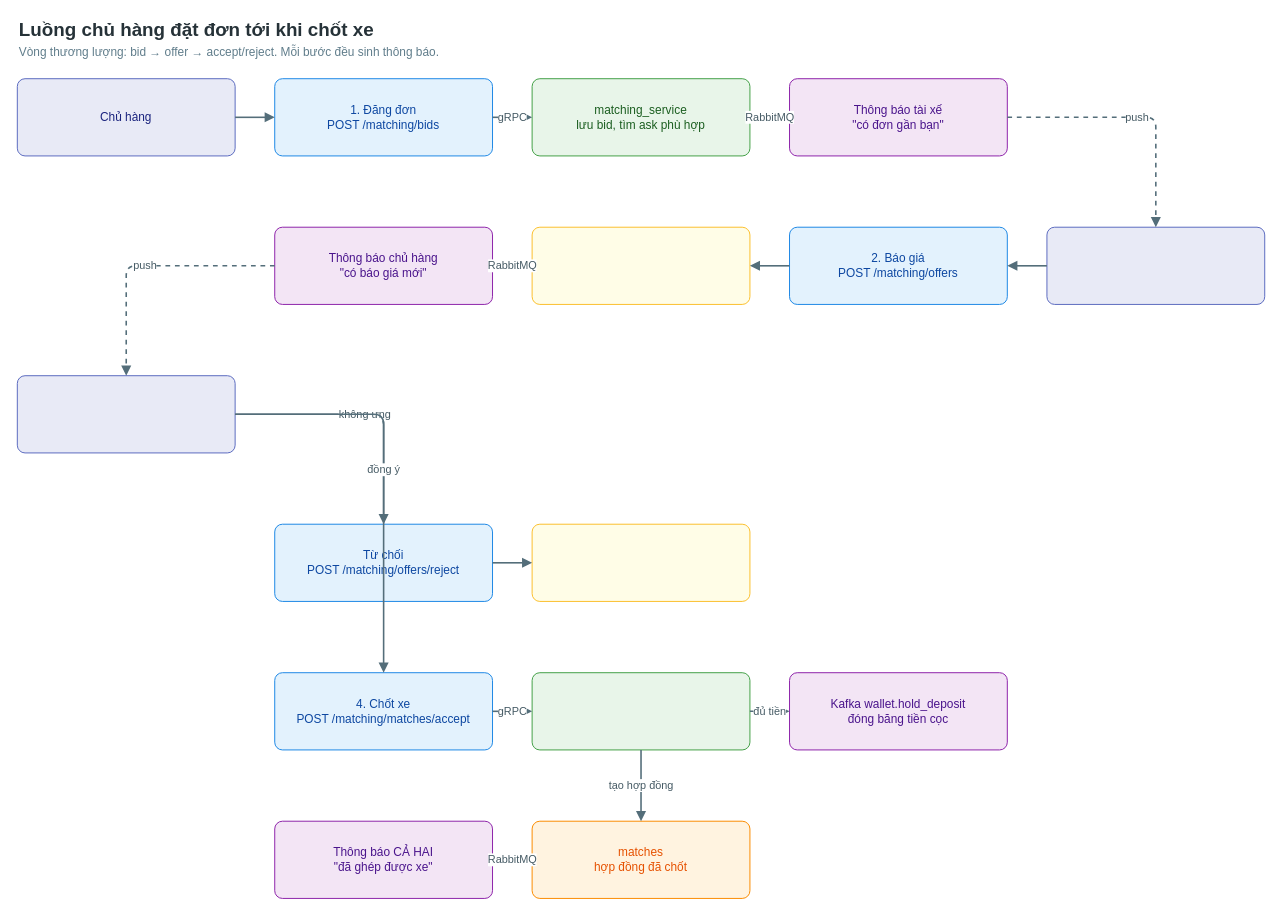
Some shapes in this 1282 by 916 pixel diagram are drawn without their labels. Each missing label, with the box of its shape:
3. Chủ hàng quyết định: (16, 375, 235, 453)
bid quay lại PENDING tài xế khác tiếp tục ra giá: (531, 523, 750, 601)
bid.status = NEGOTIATING: (531, 226, 750, 304)
Tài xế: (1046, 226, 1265, 304)
wallet_service CheckBalance: (531, 672, 750, 750)
